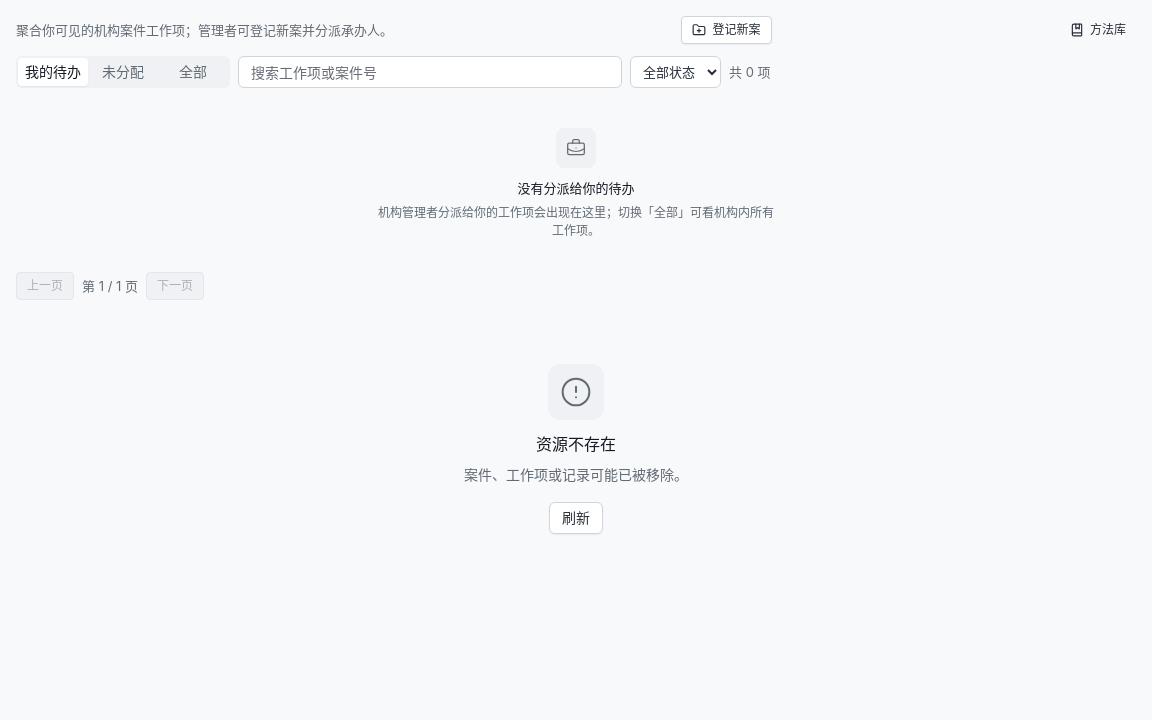
Test: Z11/Z12：机构工作台登记新案 › 打开登记新案对话框：机构成员列表驱动承办人选项
Step 1. Click the button with test id "intake-open" → click(726, 30), box [682, 16, 772, 44]
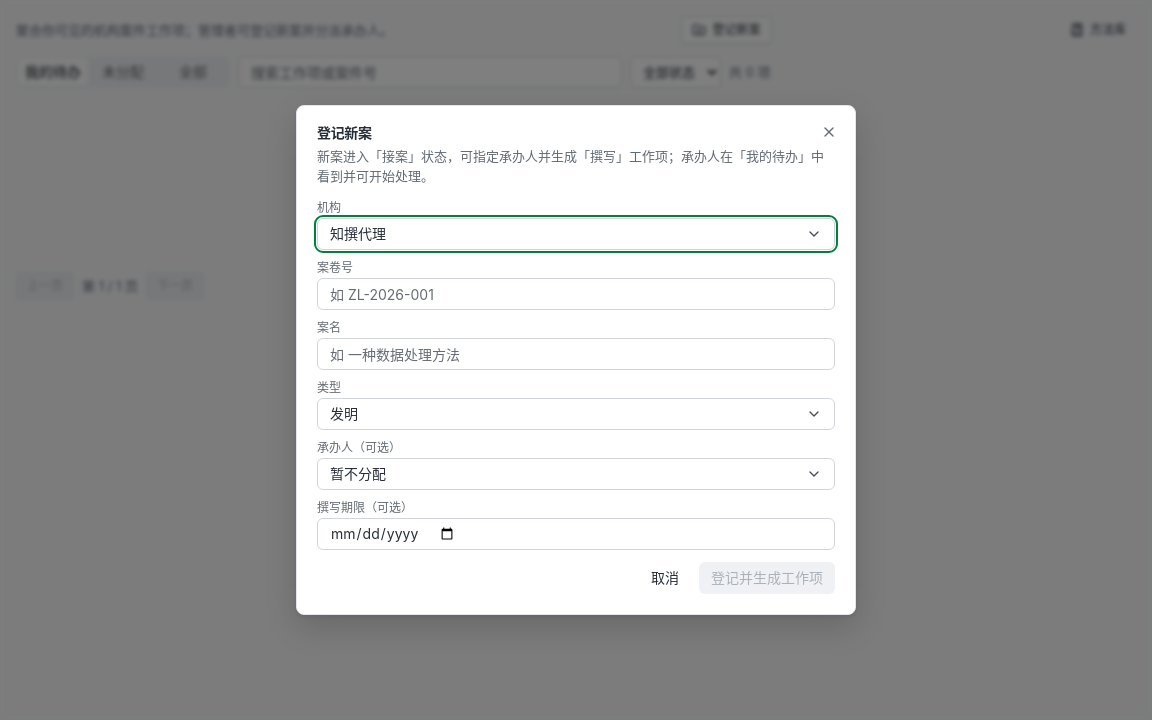
Expected: the dialog with test id "case-intake-dialog" is shown, [296, 105, 856, 615]
Expected: the field with test id "intake-key" is shown, [317, 278, 835, 310]
Expected: the field with test id "intake-title" is shown, [317, 338, 835, 370]
